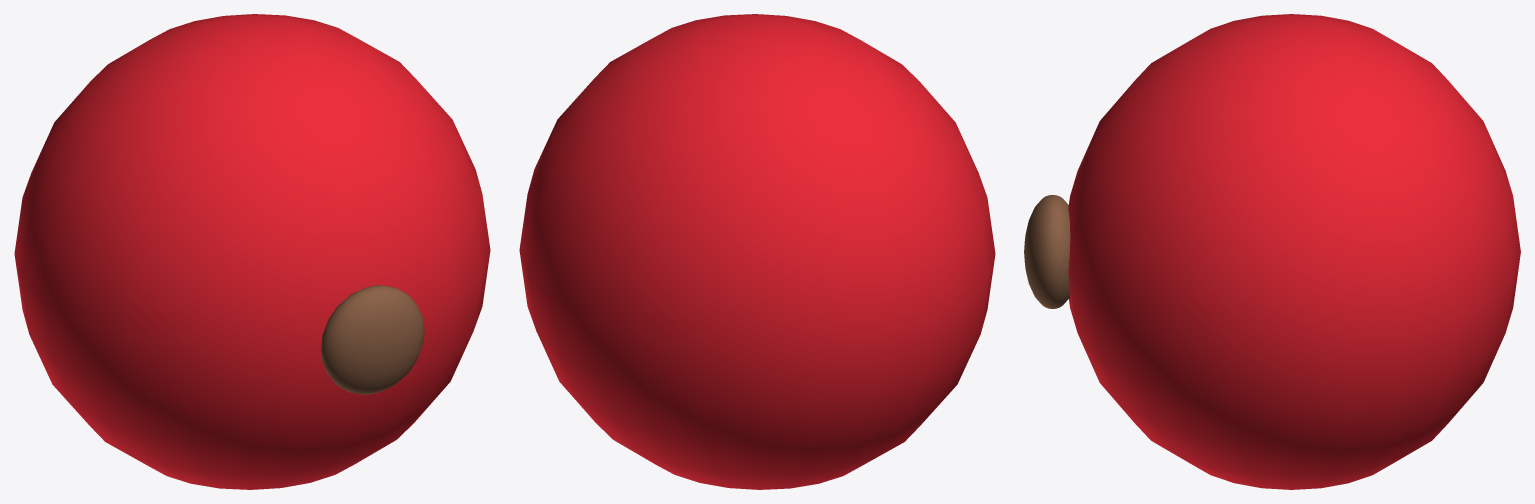
The model's file is Ammo_Haw.glb.
3 views of the same model, side by side, from view 1: azimuth 30°, elevation 25°; view 2: azimuth 150°, elevation 25°; view 3: azimuth 270°, elevation 25° (orthographic).
Visible parts, largest first — view 1: Sphere, Sphere.001; view 2: Sphere; view 3: Sphere, Sphere.001.
Part boxes in pixels (left/top/right/bottom): Sphere: left=14, top=14, right=490, bottom=489; Sphere.001: left=320, top=285, right=424, bottom=394; Sphere: left=519, top=14, right=995, bottom=489; Sphere: left=1068, top=14, right=1520, bottom=489; Sphere.001: left=1024, top=195, right=1070, bottom=308.
Bounding box in the file's own units: 1 × 1 × 1.04.
